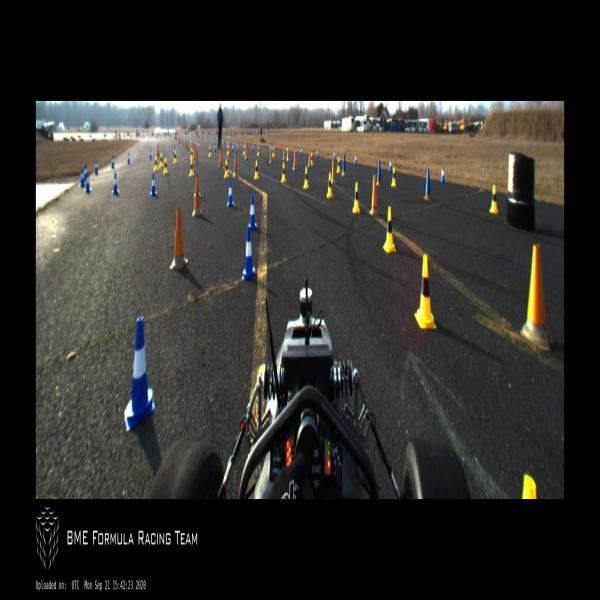blue_cone: (124, 315, 155, 434), (242, 227, 255, 281), (248, 194, 256, 226), (227, 180, 235, 207), (194, 173, 201, 199), (150, 173, 157, 196), (112, 172, 118, 195), (85, 173, 91, 193), (80, 169, 85, 188), (440, 165, 445, 183), (94, 160, 98, 174), (354, 152, 358, 165), (126, 152, 130, 165), (111, 156, 115, 168), (148, 148, 152, 160), (389, 159, 392, 171), (316, 147, 319, 159), (213, 143, 216, 152), (173, 146, 175, 157), (334, 151, 336, 160), (300, 147, 302, 156), (252, 144, 254, 152), (232, 144, 234, 152), (286, 147, 288, 154)
yellow_cone: (414, 255, 436, 328), (383, 206, 396, 252), (489, 186, 499, 214), (352, 182, 361, 212), (327, 173, 333, 198), (303, 166, 309, 189), (281, 162, 286, 182), (189, 157, 194, 176), (254, 161, 259, 180), (391, 167, 396, 186), (163, 158, 168, 174), (336, 158, 341, 173), (224, 160, 228, 178), (154, 154, 158, 171), (160, 153, 164, 168), (173, 151, 177, 163), (208, 146, 212, 157), (242, 145, 246, 156), (226, 145, 230, 156), (190, 148, 194, 158), (310, 153, 313, 166), (272, 147, 275, 158), (257, 146, 260, 156)
